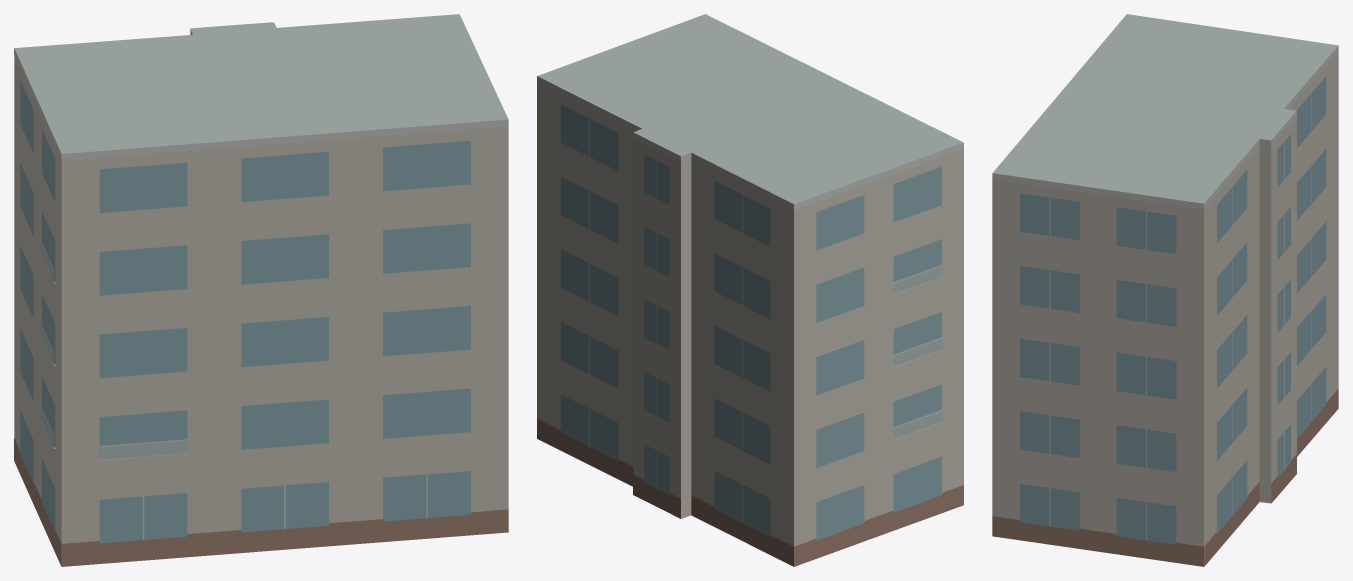
The model's file is survey-upis-32915803.glb.
3 renders of one model, left to right at view 1: azimuth 30°, elevation 25°; view 2: azimuth 150°, elevation 25°; view 3: azimuth 270°, elevation 25°, orthographic. The views are drawn at different scales.
Parts seen in each view (by area): view 1: survey-upis-32915803.tmp; view 2: survey-upis-32915803.tmp; view 3: survey-upis-32915803.tmp.
Boxes of the visible parts, <box> form: survey-upis-32915803.tmp: <box>14,14,508,566</box>; survey-upis-32915803.tmp: <box>537,14,963,566</box>; survey-upis-32915803.tmp: <box>992,14,1338,566</box>.
Size of the model in its own units: 16.14 by 14.4 by 12.45.
